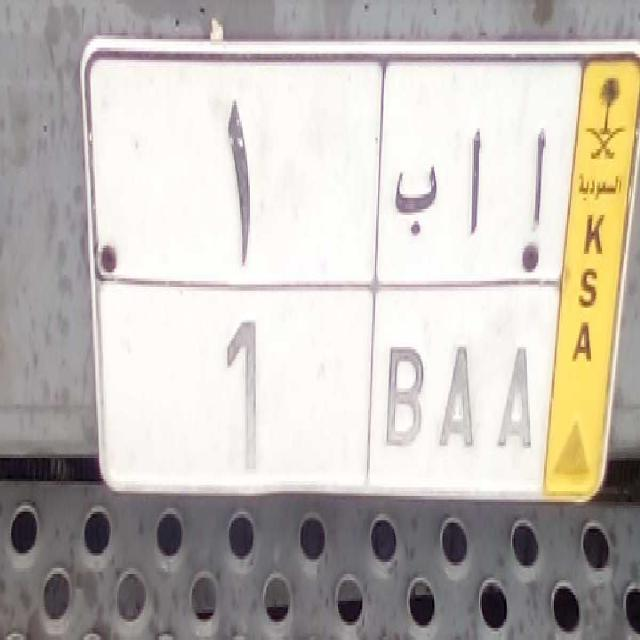license_plate: (95, 273, 557, 505)
